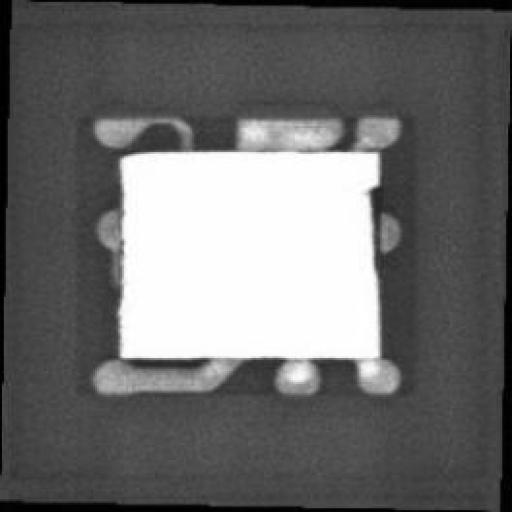DIE_BROKEN: (363, 180, 380, 274)
